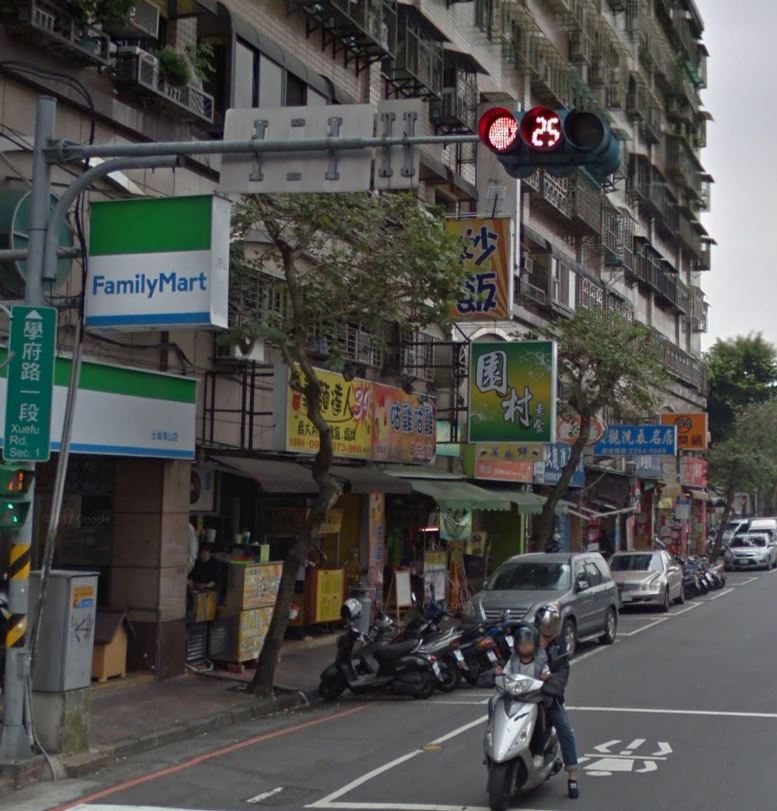Traffic_light_red: (476, 105, 615, 161)
